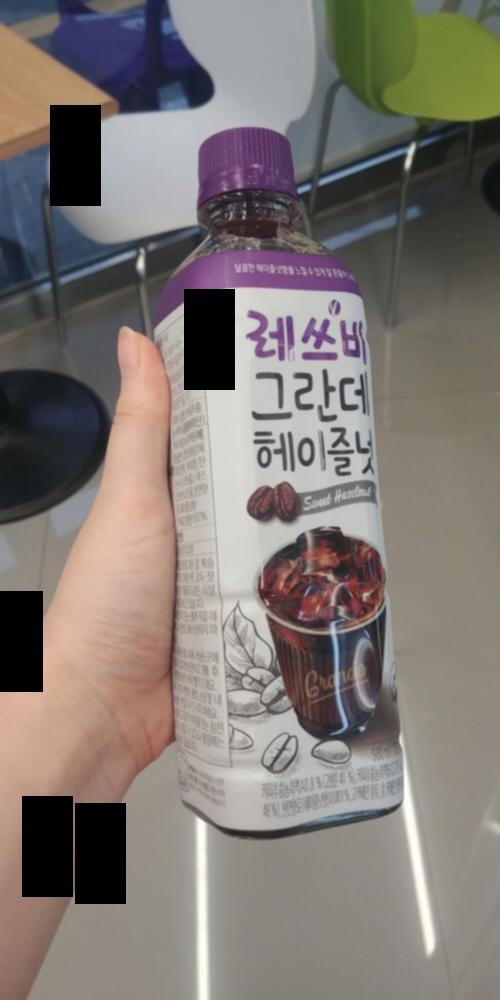letsbe_grande_hazelnut: (126, 120, 439, 846)
